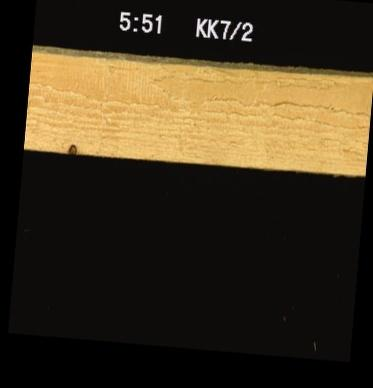edge_knot: (63, 141, 77, 156)
